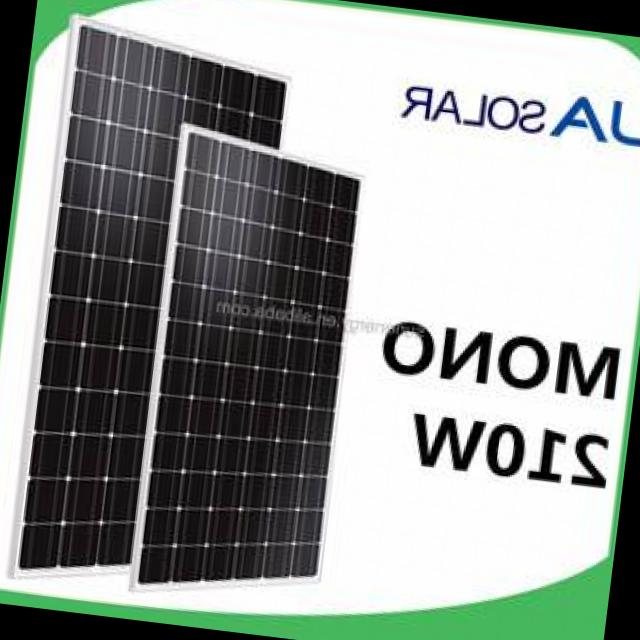no faulty: (21, 26, 277, 564), (138, 138, 352, 575)
